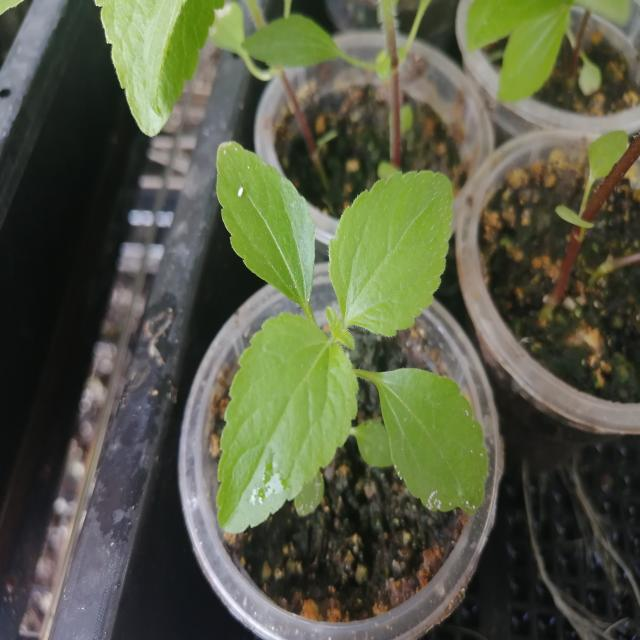billygoat_weed: (195, 140, 487, 519)
